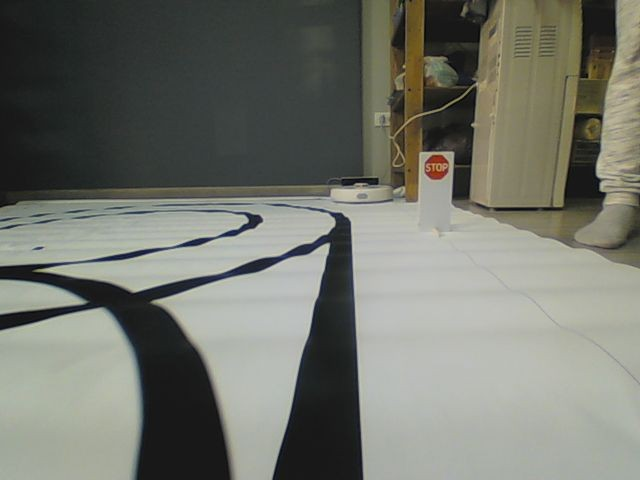Stop: (422, 152, 448, 183)
